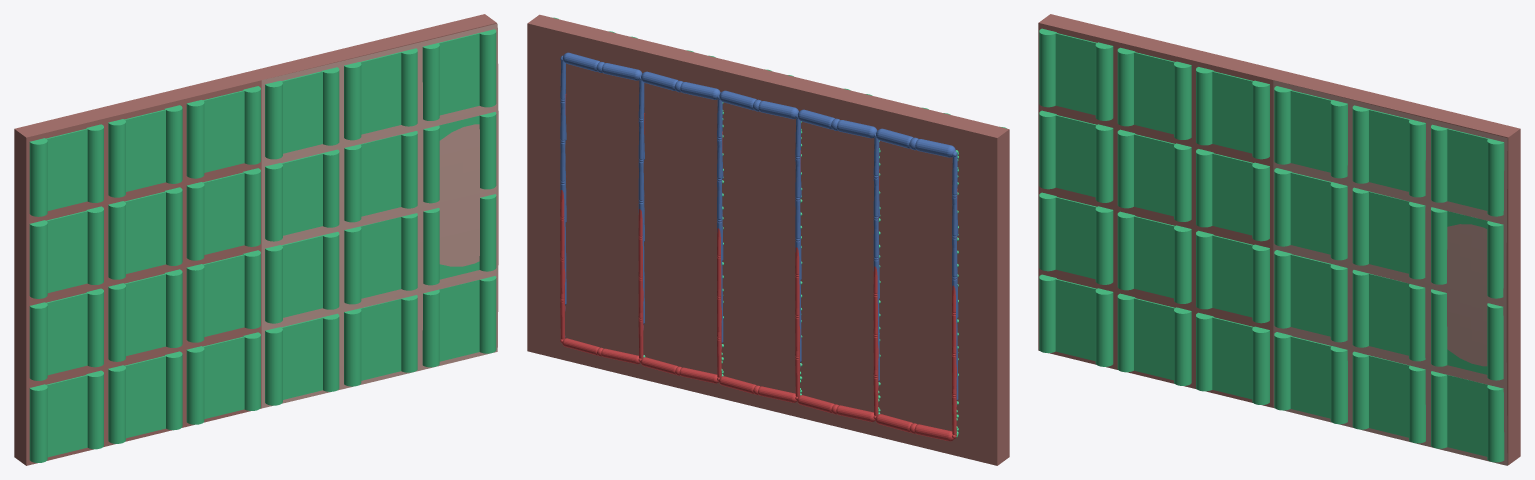
File: dranmar_icg_peak.glb
The picture shows the model from 3 angles, left to right: view 1: azimuth 30°, elevation 25°; view 2: azimuth 150°, elevation 25°; view 3: azimuth 330°, elevation 25°; orthographic projection.
Parts seen in each view (by area): view 1: TissueBulk, TissueSurface, Overlay_11, Overlay_10, Overlay_9, Overlay_4, Overlay_7, Overlay_1, Overlay_5, Overlay_6, Overlay_8, Overlay_0 (+14 smaller); view 2: TissueBulk, VT0, VT1, VT2, VT3, VT4, AT0, AT1, AT2, AT3, AT4, VB05 (+5 smaller); view 3: TissueBulk, TissueSurface, Overlay_4, Overlay_5, Overlay_1, Overlay_2, Overlay_3, Overlay_6, Overlay_0, Overlay_7, Overlay_10, Overlay_11 (+14 smaller).
Part boxes in pixels (x1=…): TissueBulk: x1=14, y1=14, x2=496, y2=465; TissueSurface: x1=261, y1=23, x2=498, y2=408; Overlay_11: x1=186, y1=86, x2=260, y2=178; Overlay_10: x1=186, y1=168, x2=260, y2=260; Overlay_9: x1=186, y1=250, x2=260, y2=342; Overlay_4: x1=108, y1=351, x2=182, y2=443; Overlay_7: x1=108, y1=105, x2=182, y2=197; Overlay_1: x1=29, y1=288, x2=103, y2=380; Overlay_5: x1=108, y1=269, x2=182, y2=361; Overlay_6: x1=108, y1=187, x2=182, y2=279; Overlay_8: x1=186, y1=332, x2=260, y2=424; Overlay_0: x1=29, y1=370, x2=103, y2=462; TissueBulk: x1=527, y1=14, x2=1009, y2=465; VT0: x1=876, y1=128, x2=955, y2=157; VT1: x1=797, y1=109, x2=877, y2=138; VT2: x1=719, y1=90, x2=798, y2=119; VT3: x1=641, y1=71, x2=720, y2=99; VT4: x1=562, y1=52, x2=642, y2=80; AT0: x1=875, y1=414, x2=953, y2=441; AT1: x1=797, y1=395, x2=875, y2=422; AT2: x1=719, y1=376, x2=796, y2=402; AT3: x1=640, y1=357, x2=718, y2=383; AT4: x1=562, y1=338, x2=640, y2=364; VB05: x1=560, y1=63, x2=566, y2=304; TissueBulk: x1=1038, y1=14, x2=1520, y2=465; TissueSurface: x1=1273, y1=80, x2=1507, y2=465; Overlay_4: x1=1117, y1=293, x2=1191, y2=385; Overlay_5: x1=1117, y1=211, x2=1191, y2=303; Overlay_1: x1=1039, y1=192, x2=1113, y2=284; Overlay_2: x1=1039, y1=110, x2=1113, y2=202; Overlay_3: x1=1039, y1=28, x2=1113, y2=120; Overlay_6: x1=1117, y1=129, x2=1191, y2=221; Overlay_0: x1=1039, y1=274, x2=1113, y2=366; Overlay_7: x1=1117, y1=47, x2=1191, y2=139; Overlay_10: x1=1196, y1=149, x2=1269, y2=241; Overlay_11: x1=1196, y1=67, x2=1269, y2=159.
Bounding box in the file's own units: 0.18 × 0.12 × 0.0168.
